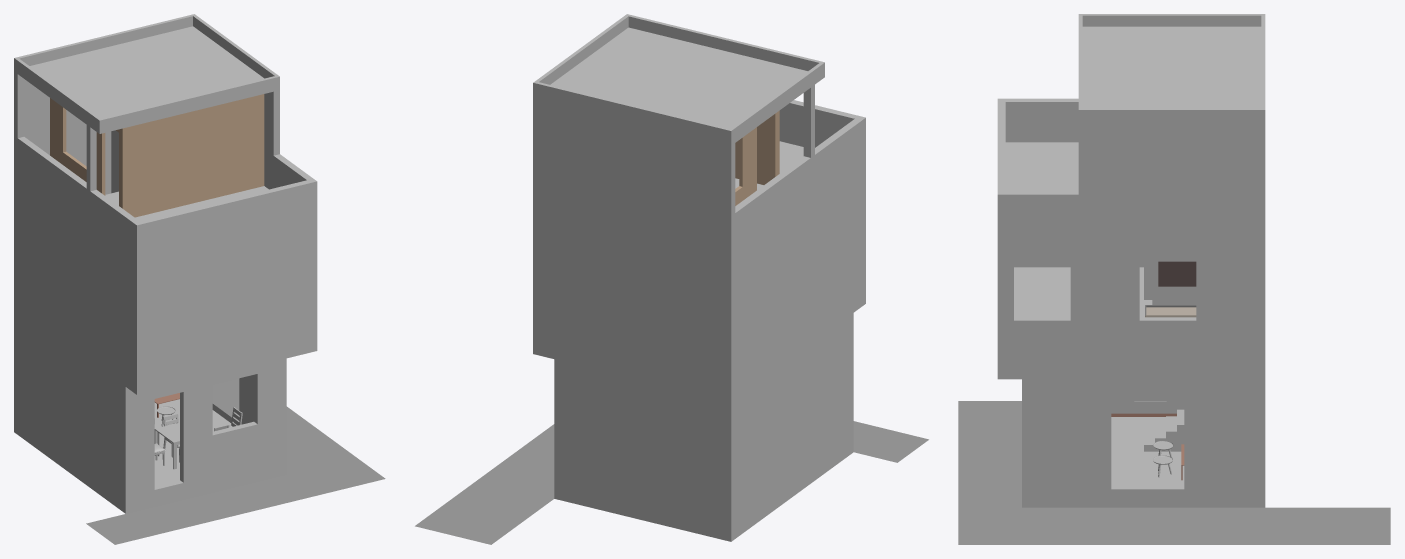
The model's file is house.glb.
3 views of the same model, side by side, from view 1: azimuth 30°, elevation 25°; view 2: azimuth 150°, elevation 25°; view 3: azimuth 270°, elevation 25° (orthographic). The views are drawn at different scales.
Visible parts, largest first — view 1: skp; view 2: skp; view 3: skp.
Part boxes in pixels (bbox=[...]): skp: bbox=[14, 14, 385, 544]; skp: bbox=[415, 14, 928, 544]; skp: bbox=[958, 14, 1390, 544].
Bounding box in the file's own units: 8.41 × 11.1 × 10.66.
